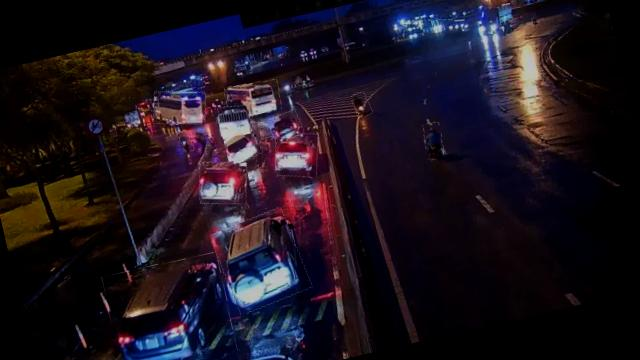Bike: (421, 122, 446, 162), (352, 90, 372, 119), (178, 129, 194, 153)
Bus: (150, 83, 210, 132), (223, 77, 283, 121)
Car: (100, 250, 238, 360), (211, 208, 311, 315), (194, 155, 252, 211), (269, 126, 324, 182), (223, 128, 262, 166), (266, 109, 304, 144)
Truck: (215, 102, 254, 139)
